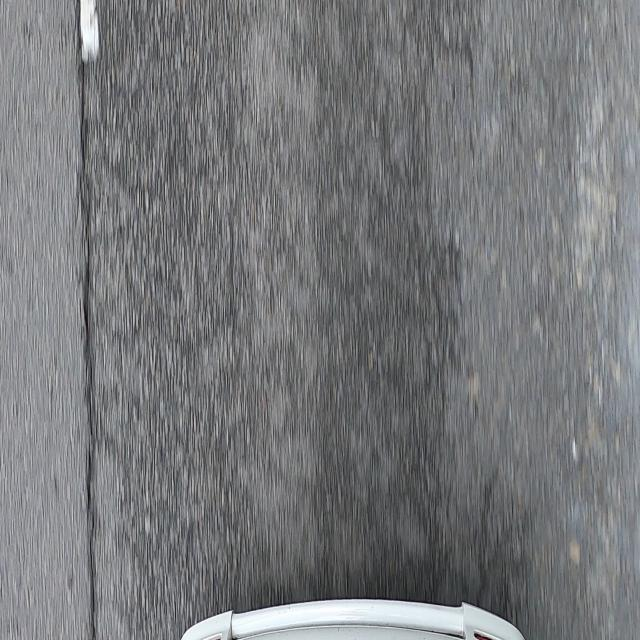Retak-Memanjang: (74, 1, 97, 640)
